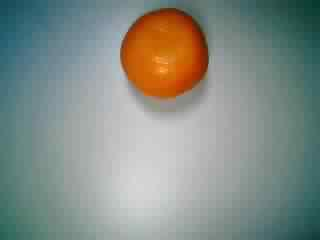orange: (116, 3, 211, 105)
